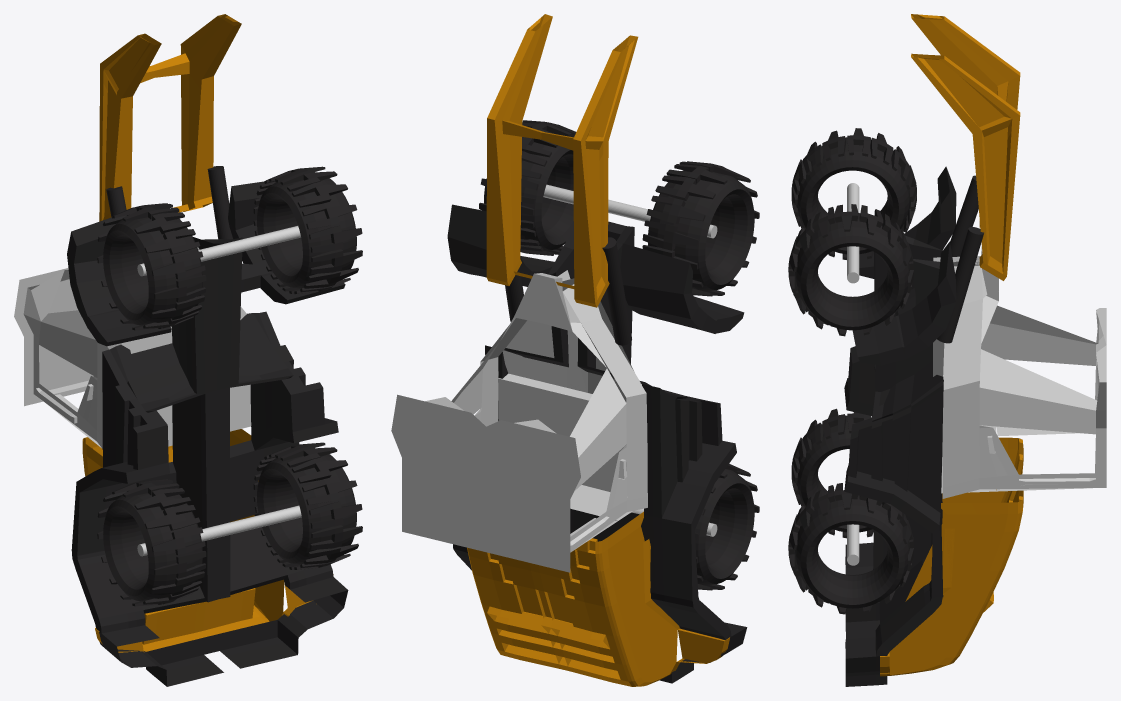
File: LIEBHERRL538.fbx
The picture shows the model from 3 angles, left to right: view 1: azimuth 30°, elevation 25°; view 2: azimuth 150°, elevation 25°; view 3: azimuth 270°, elevation 25°; orthographic projection. The views are drawn at different scales.
Visible parts, largest first — view 1: Chassis, LoaderLiftArm, Cab, rightTopTire, rightBackTire, leftBackTire, leftTopTire, BackHood, rearAxle, frontAxle, LeftliftPistonRod; view 2: Cab, Chassis, BackHood, LoaderLiftArm, rightTopTire, leftTopTire, rightBackTire, RightliftPistonRod, frontAxle, LeftliftPistonRod; view 3: Chassis, Cab, BackHood, LoaderLiftArm, leftTopTire, leftBackTire, rightTopTire, rightBackTire, LeftliftPistonRod, RightliftPistonRod, frontAxle, rearAxle.
Part boxes in pixels (bbox=[...]): Chassis: bbox=[67, 181, 348, 686]; LoaderLiftArm: bbox=[99, 14, 241, 221]; Cab: bbox=[14, 247, 251, 448]; rightTopTire: bbox=[97, 203, 206, 330]; rightBackTire: bbox=[97, 479, 206, 606]; leftBackTire: bbox=[253, 442, 362, 569]; leftTopTire: bbox=[253, 166, 362, 294]; BackHood: bbox=[82, 429, 333, 652]; rearAxle: bbox=[137, 505, 301, 556]; frontAxle: bbox=[137, 226, 300, 276]; LeftliftPistonRod: bbox=[207, 166, 232, 239]; Cab: bbox=[391, 270, 647, 572]; Chassis: bbox=[447, 204, 747, 683]; BackHood: bbox=[467, 511, 729, 686]; LoaderLiftArm: bbox=[486, 14, 638, 307]; rightTopTire: bbox=[642, 161, 759, 296]; leftTopTire: bbox=[479, 120, 576, 255]; rightBackTire: bbox=[694, 463, 759, 590]; RightliftPistonRod: bbox=[602, 237, 631, 345]; frontAxle: bbox=[543, 184, 717, 238]; LeftliftPistonRod: bbox=[505, 267, 523, 321]; Chassis: bbox=[844, 166, 956, 686]; Cab: bbox=[933, 246, 1106, 498]; BackHood: bbox=[880, 437, 1023, 676]; LoaderLiftArm: bbox=[911, 14, 1020, 280]; leftTopTire: bbox=[788, 204, 913, 336]; leftBackTire: bbox=[788, 483, 913, 614]; rightTopTire: bbox=[791, 128, 916, 259]; rightBackTire: bbox=[791, 408, 873, 538]; LeftliftPistonRod: bbox=[937, 227, 983, 343]; RightliftPistonRod: bbox=[950, 175, 978, 256]; frontAxle: bbox=[847, 183, 859, 283]; rearAxle: bbox=[847, 524, 859, 565].
Bounding box in the file's own units: 683 × 1680 × 784.
